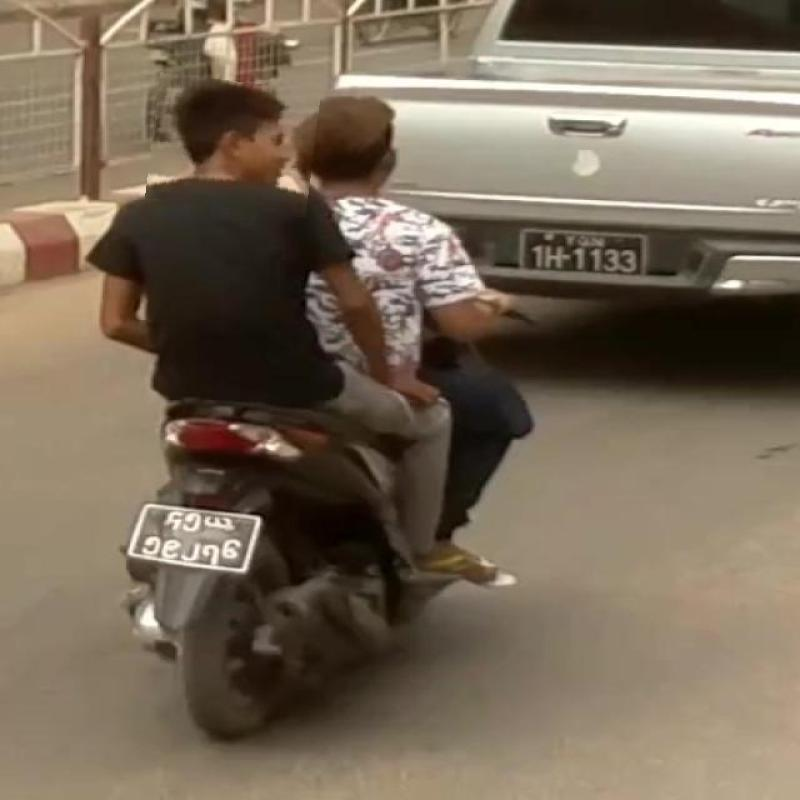nohelmet: (148, 76, 318, 212)
